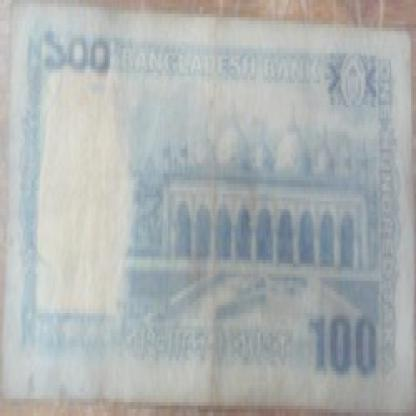one hundred taka: (304, 305, 378, 381), (44, 20, 116, 86)
